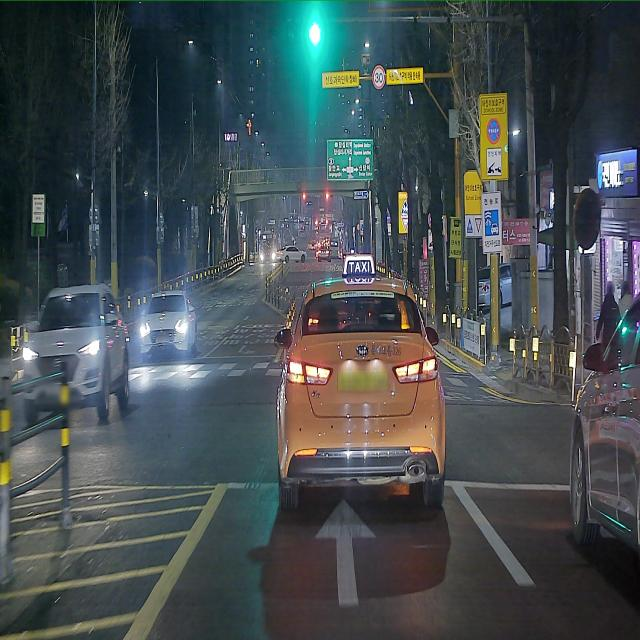Green Light: (308, 23, 322, 45)
